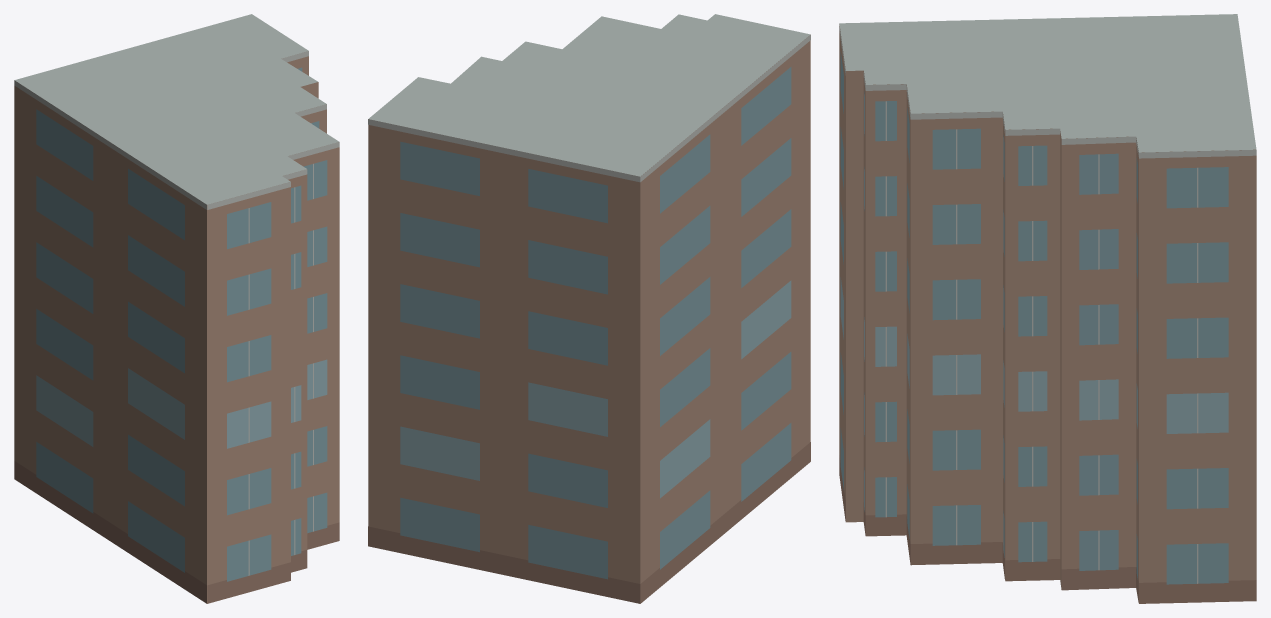
Rendered from survey-upis-32887464.glb.
3 renders of one model, left to right at view 1: azimuth 30°, elevation 25°; view 2: azimuth 150°, elevation 25°; view 3: azimuth 270°, elevation 25°, orthographic. The views are drawn at different scales.
Parts seen in each view (by area): view 1: survey-upis-32887464.tmp; view 2: survey-upis-32887464.tmp; view 3: survey-upis-32887464.tmp.
Boxes of the visible parts, x1,y1,x2,y2 form: survey-upis-32887464.tmp: (14, 14, 339, 603); survey-upis-32887464.tmp: (368, 14, 810, 603); survey-upis-32887464.tmp: (839, 14, 1256, 603).
Size of the model in its own units: 12.05 by 18.3 by 15.34.
